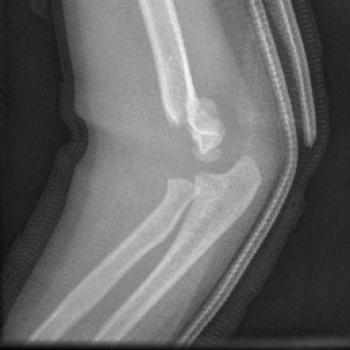Fracture: (162, 111, 237, 201)
